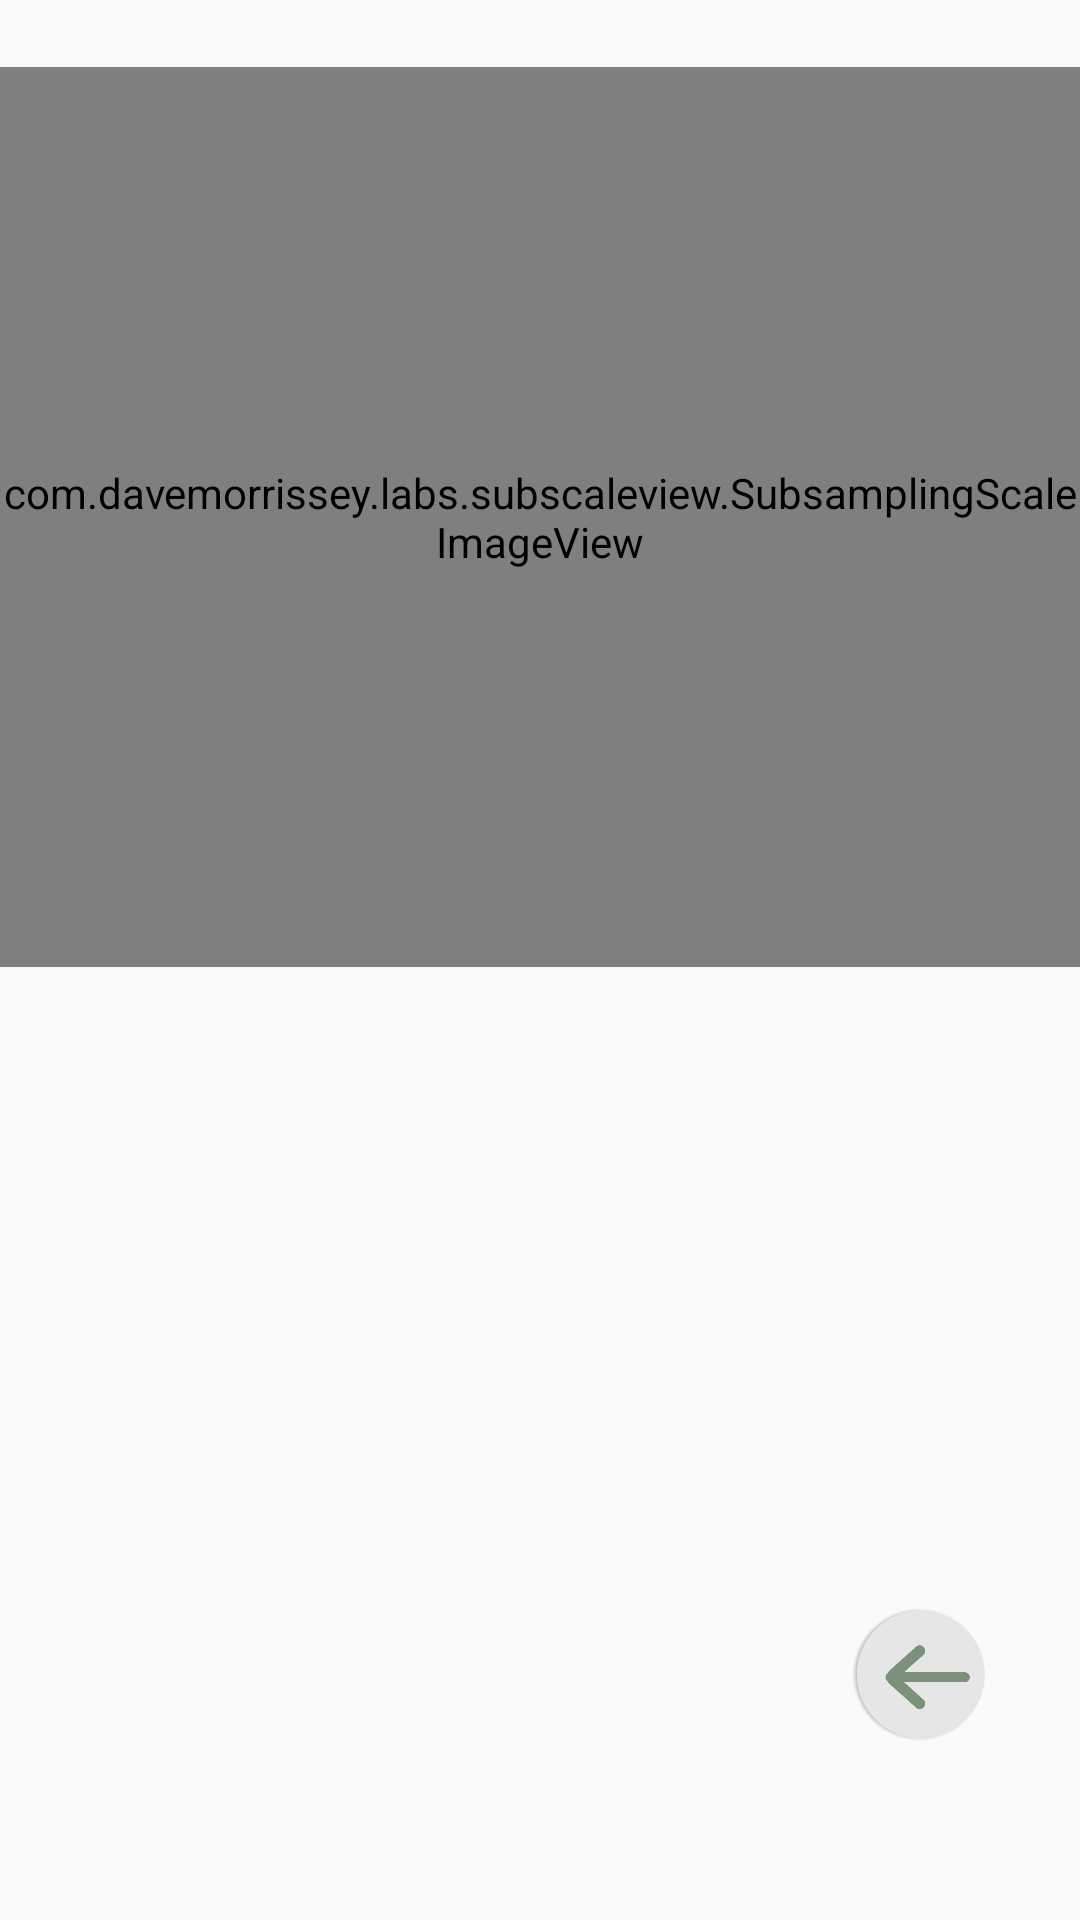

Screen size 1080px×1920px. Icon name, then its box in pixels as (x1, y1, x2, y2):
map return: (853, 1609, 985, 1740)
